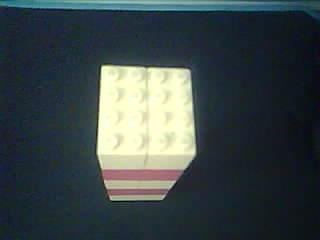lego: (96, 63, 197, 200)
